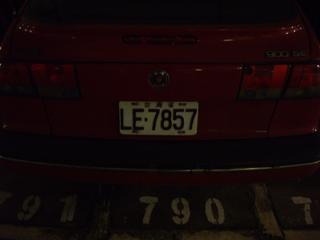plate: (115, 98, 199, 137)
